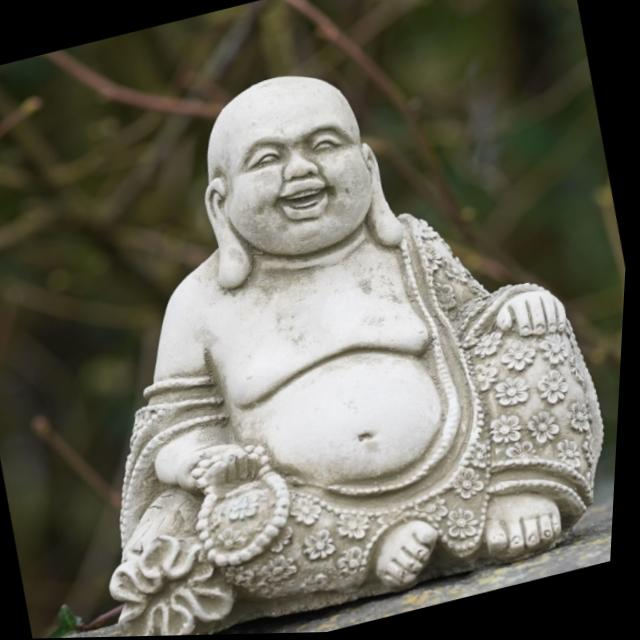Smiling Buddha: (85, 39, 516, 585)
